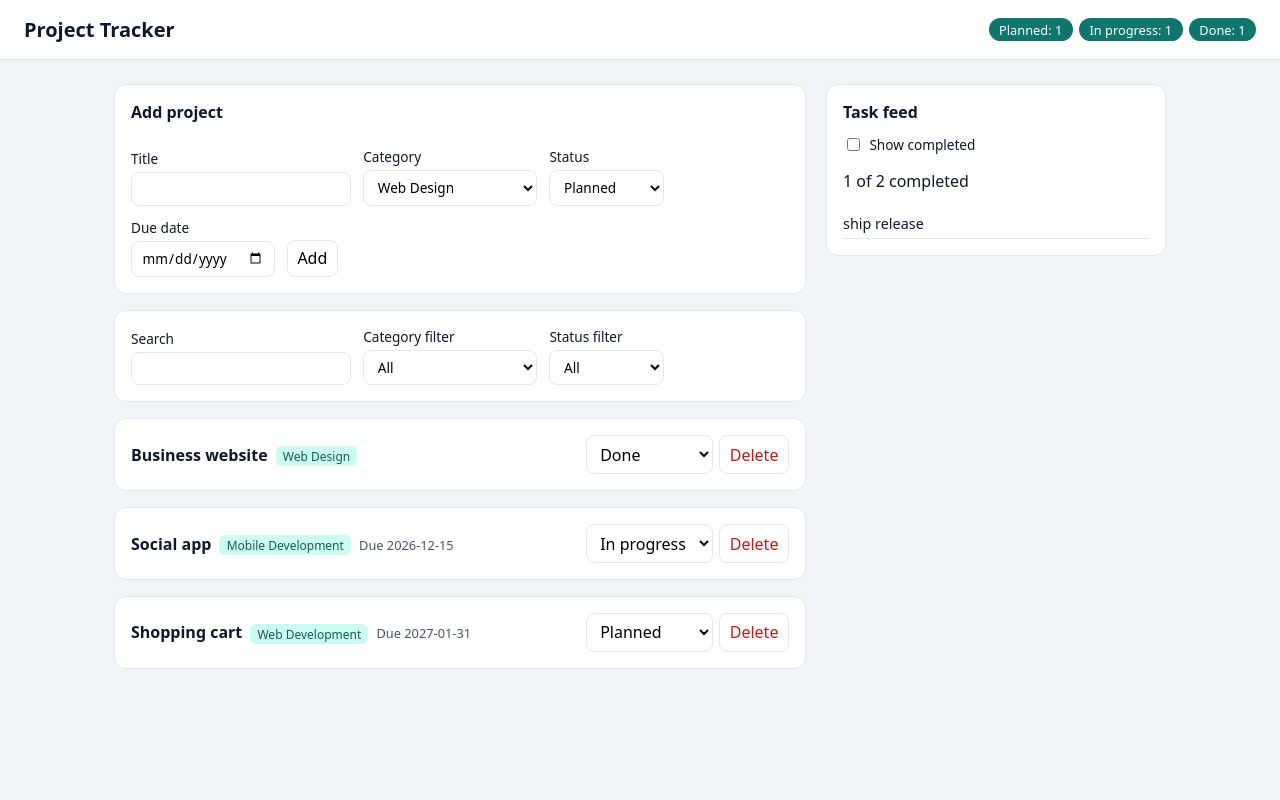
Project Tracker › loads the task feed and hides completed tasks by default
Expected: the list item "ship release" is shown, [843,208,1149,239]
Expected: the text "1 of 2 completed" is shown, [843,170,969,192]
Click the checkbox labelled "Show completed": point(854, 144) [847,138,860,151]
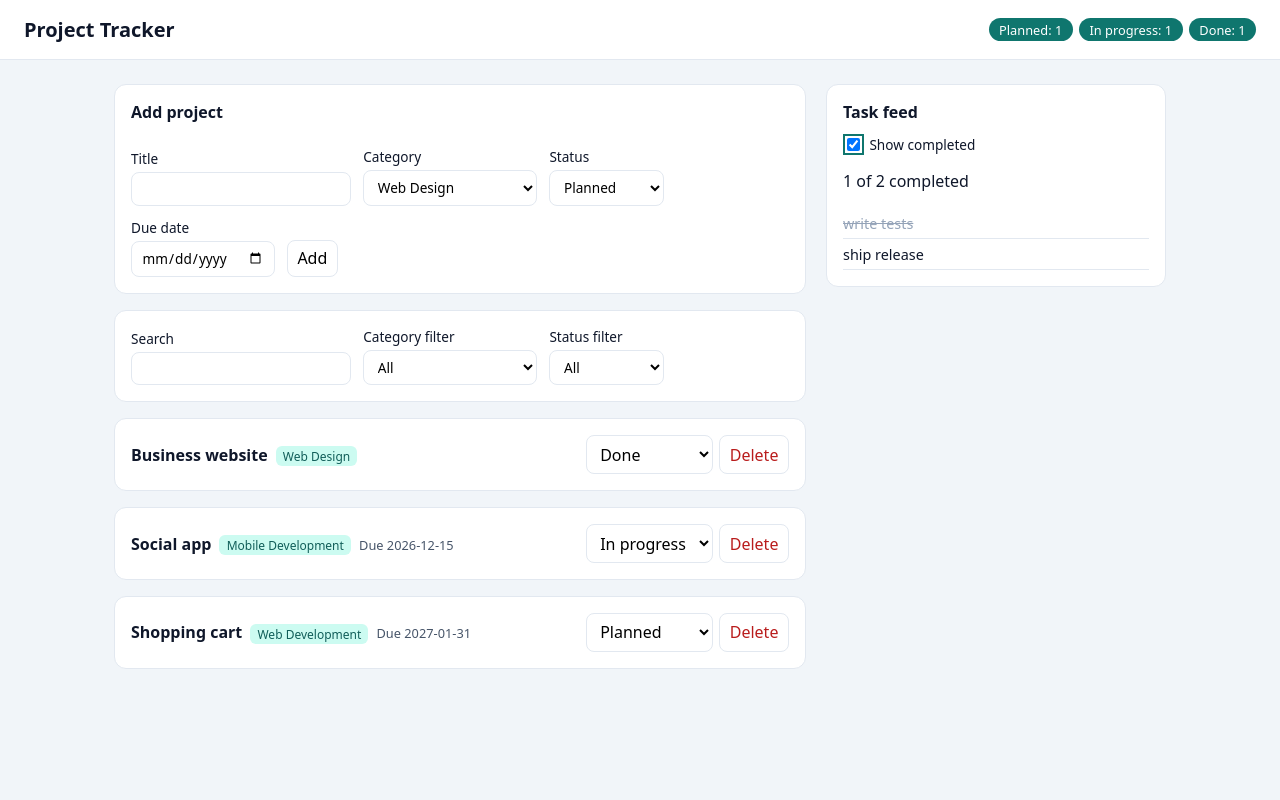
Expected: the list item "write tests" is shown, [843,208,1149,239]
